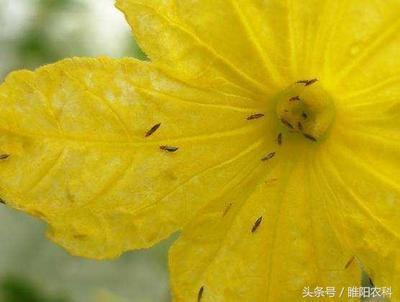tiny_pests: (241, 106, 268, 127), (142, 119, 165, 142), (249, 212, 268, 236), (158, 139, 180, 159), (259, 147, 281, 164), (301, 131, 322, 148), (303, 74, 321, 92), (194, 285, 211, 302), (275, 129, 287, 148)
